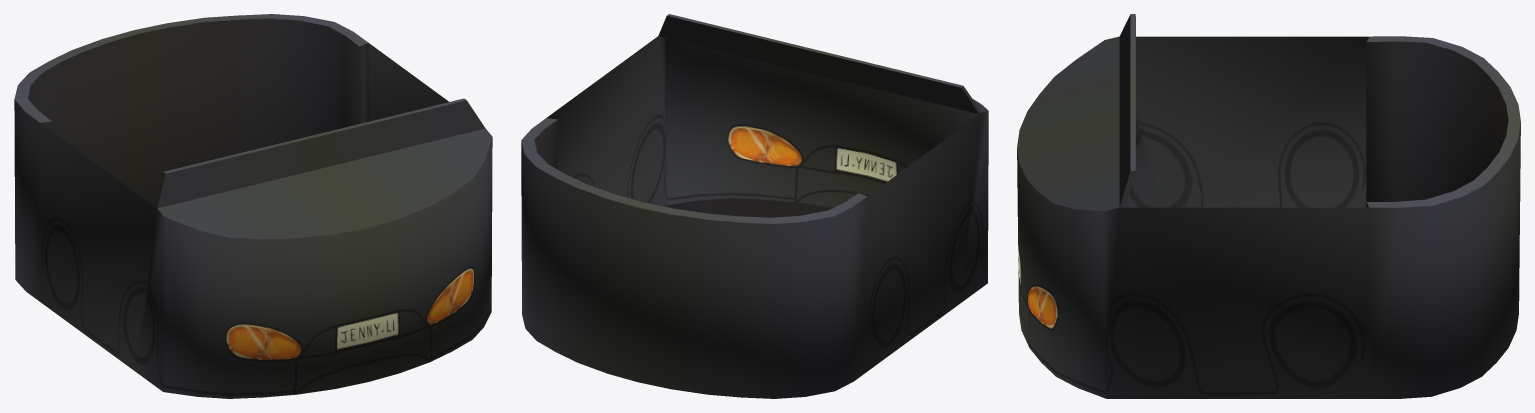
Rendered from Car1.glb.
3 renders of one model, left to right at view 1: azimuth 30°, elevation 25°; view 2: azimuth 150°, elevation 25°; view 3: azimuth 270°, elevation 25°, orthographic. The views are drawn at different scales.
Parts seen in each view (by area): view 1: Car.002; view 2: Car.002; view 3: Car.002.
Part boxes in pixels (bbox=[...]): Car.002: bbox=[14, 14, 492, 398]; Car.002: bbox=[521, 14, 988, 398]; Car.002: bbox=[1017, 14, 1520, 398].
Bounding box in the file's own units: 0.4124 × 0.2482 × 0.5131.
1 material, 1 textured.
